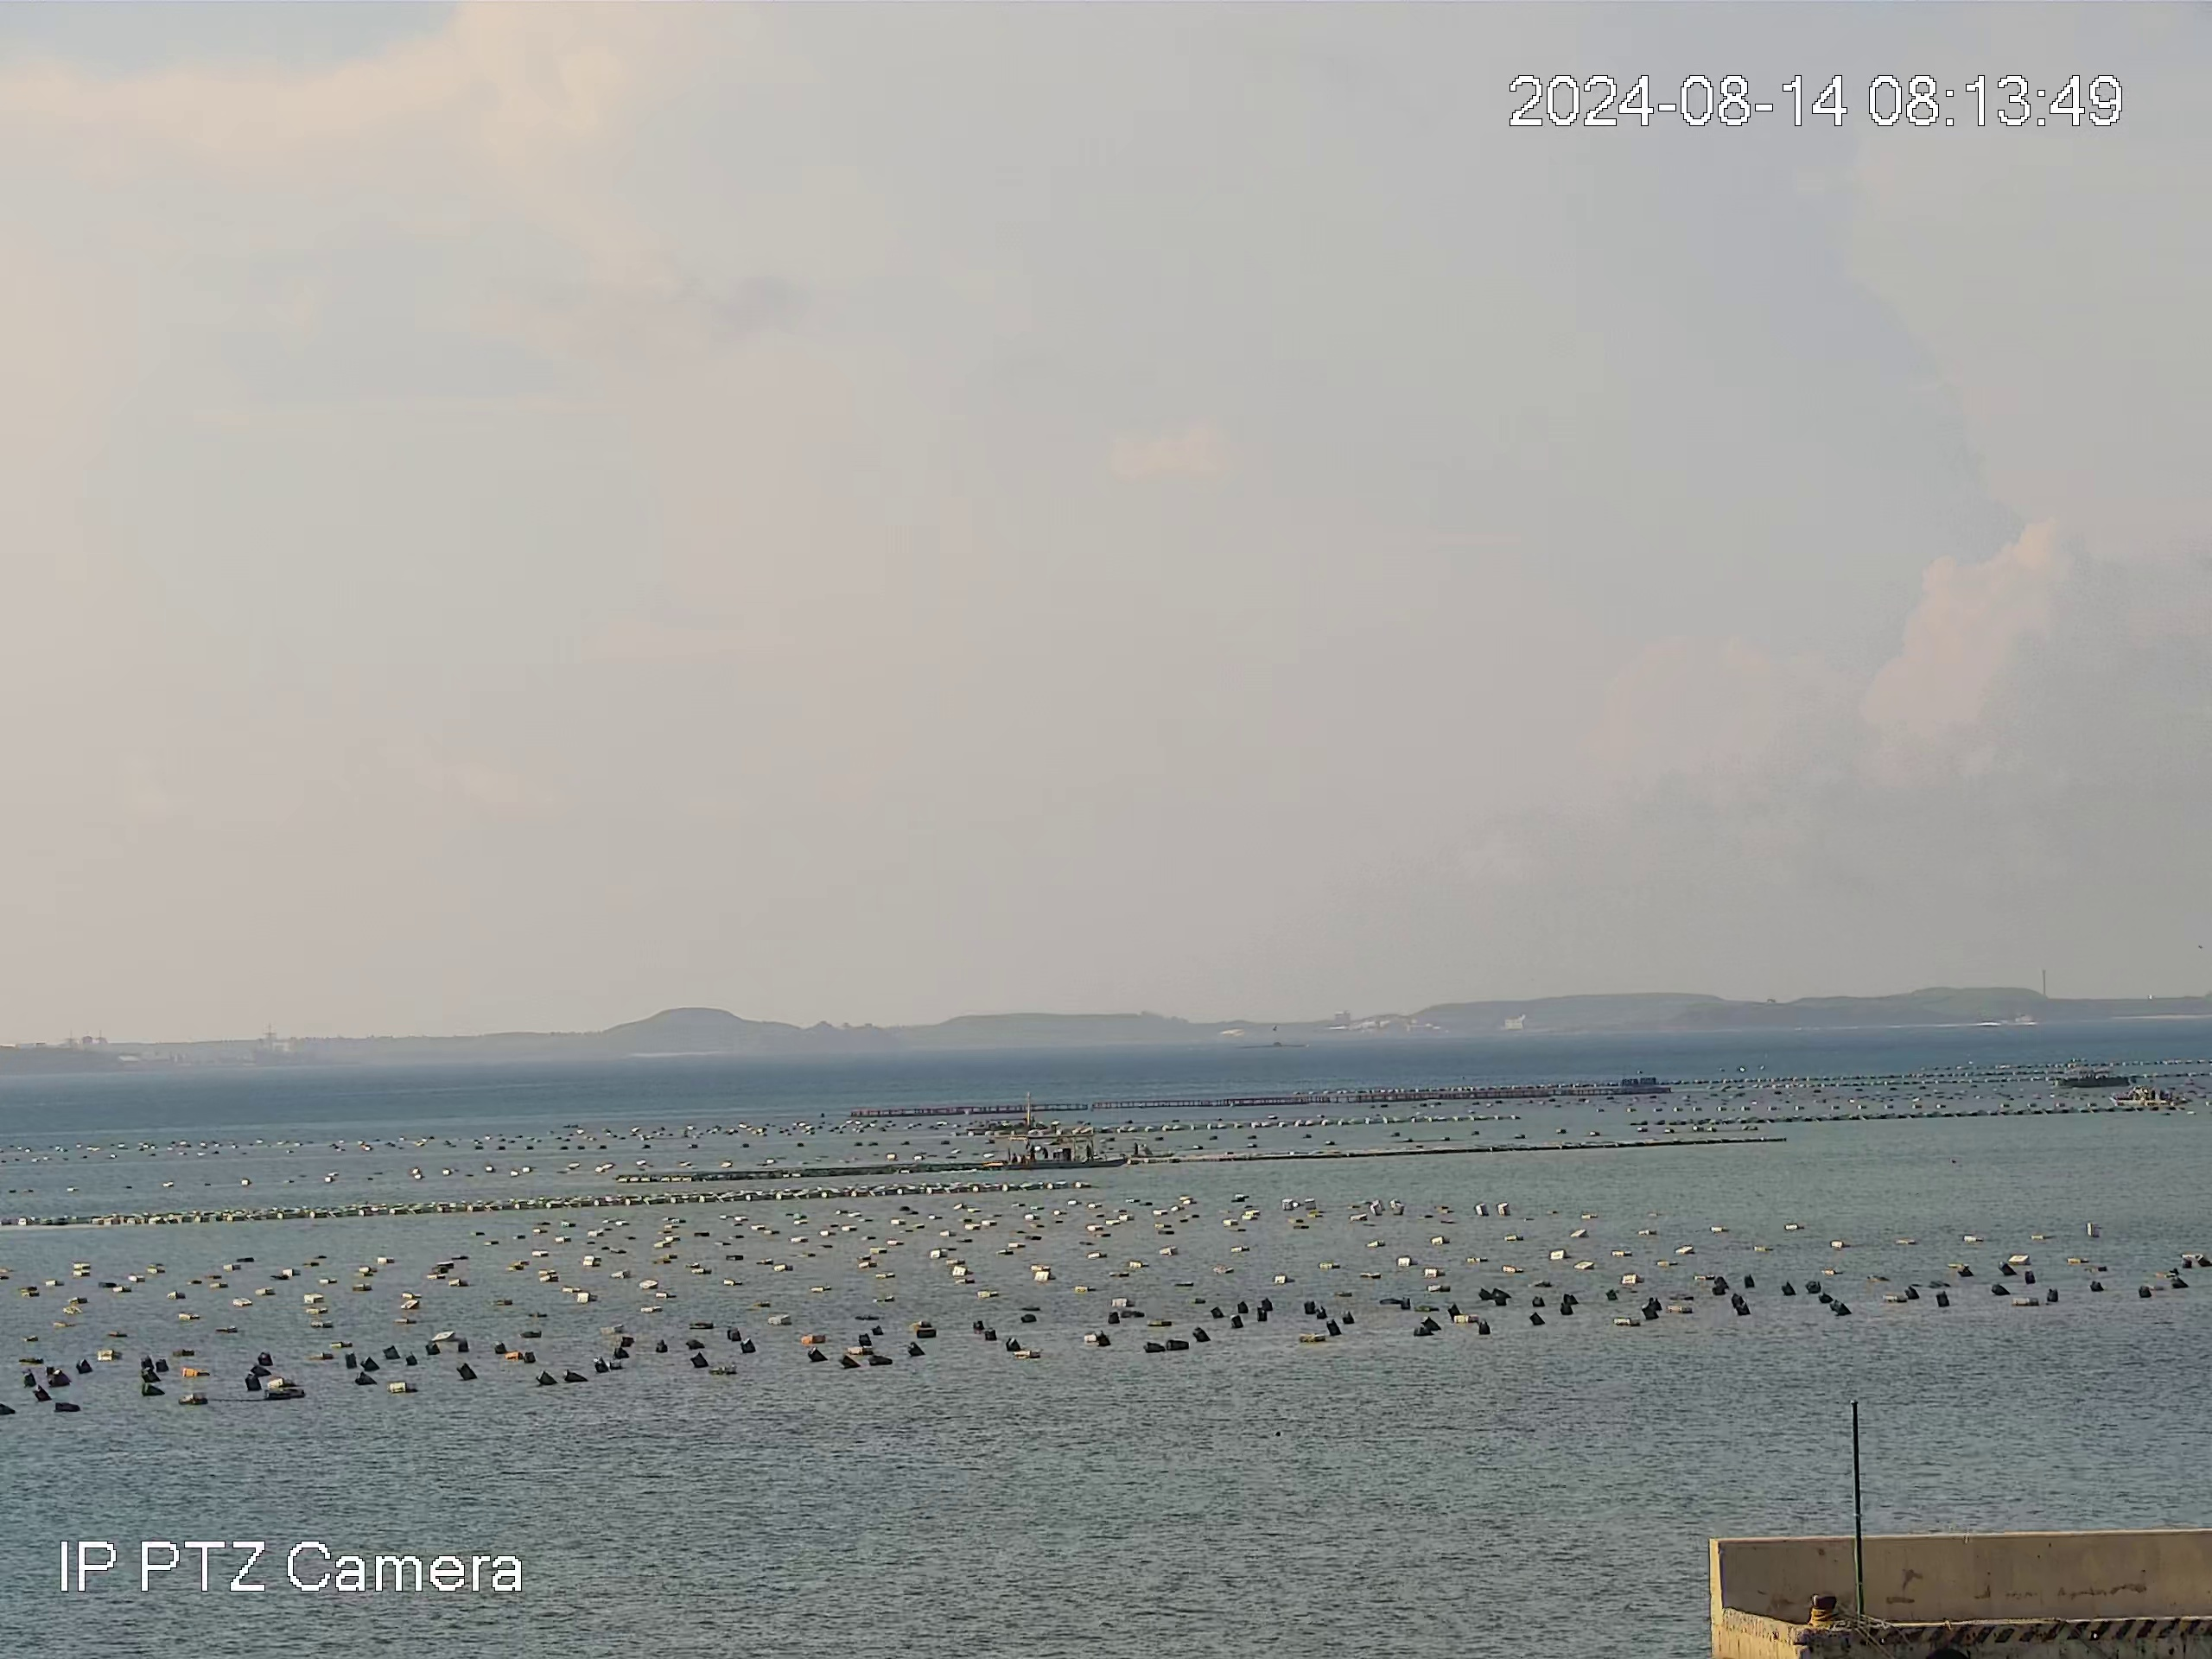boat: (984, 1133, 1122, 1169), (2052, 1056, 2130, 1086), (2111, 1089, 2186, 1110)
